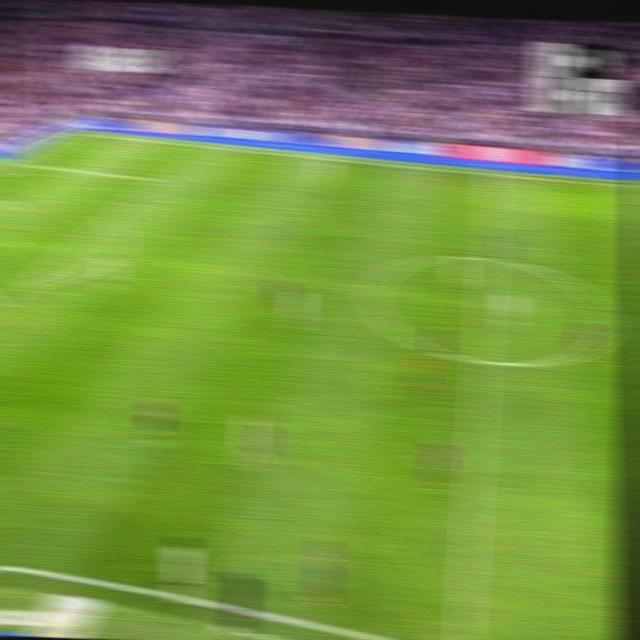bigarea_top_inner: (149, 171, 169, 185)
bottom_arc_area_intersection: (17, 275, 38, 292)
corner: (71, 128, 91, 137)
halfcircle_bottom: (469, 347, 492, 373)
halfcircle_top: (477, 247, 499, 266)
midline_bottom_intersection: (448, 640, 476, 640)
midline_top_intersection: (484, 169, 503, 181)
smallarea_top_inner: (1, 195, 19, 206)
top_arc_area_intersection: (100, 212, 118, 226)
